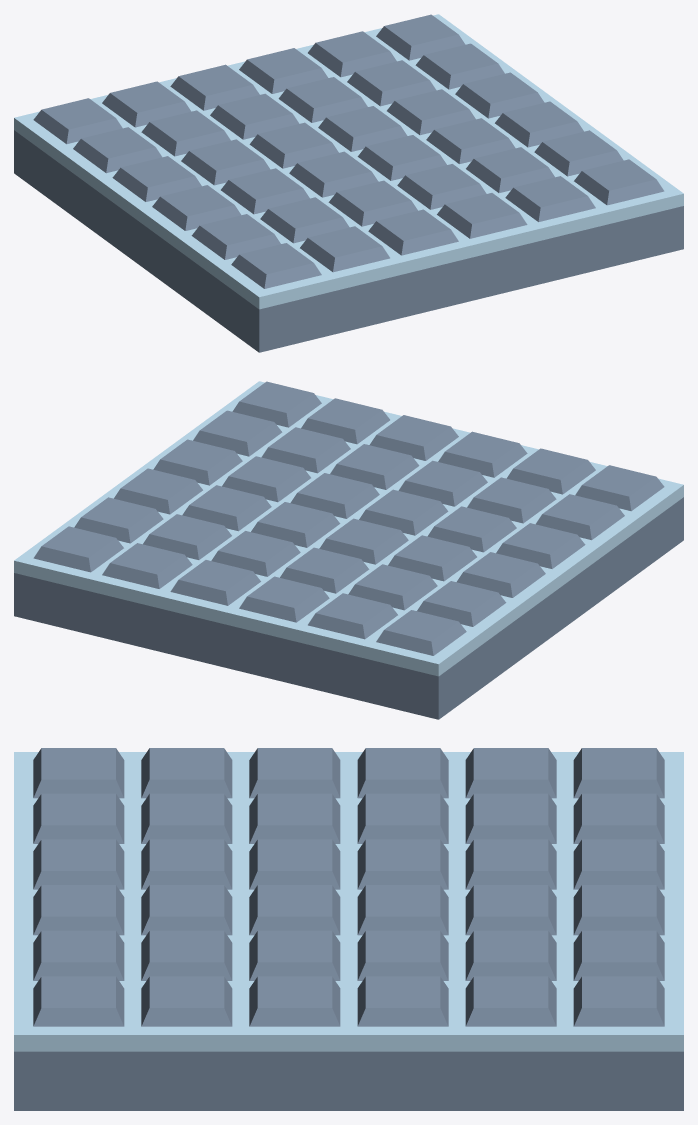
File: quaternius-sushi-restaurant-floor-tiles.glb
3 renders of one model, top to bottom at view 1: azimuth 30°, elevation 25°; view 2: azimuth 150°, elevation 25°; view 3: azimuth 270°, elevation 25°, orthographic. The views are drawn at different scales.
Parts seen in each view (by area): view 1: Floor_Tiles; view 2: Floor_Tiles; view 3: Floor_Tiles.
Part boxes in pixels (bbox=[...]): Floor_Tiles: bbox=[14, 14, 683, 352]; Floor_Tiles: bbox=[14, 381, 683, 719]; Floor_Tiles: bbox=[14, 748, 683, 1110].
Bounding box in the file's own units: 4 × 0.6011 × 4.
Materials: 1 (1 with a texture image).
